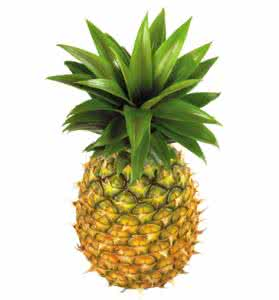pineapple: (53, 17, 209, 291)
